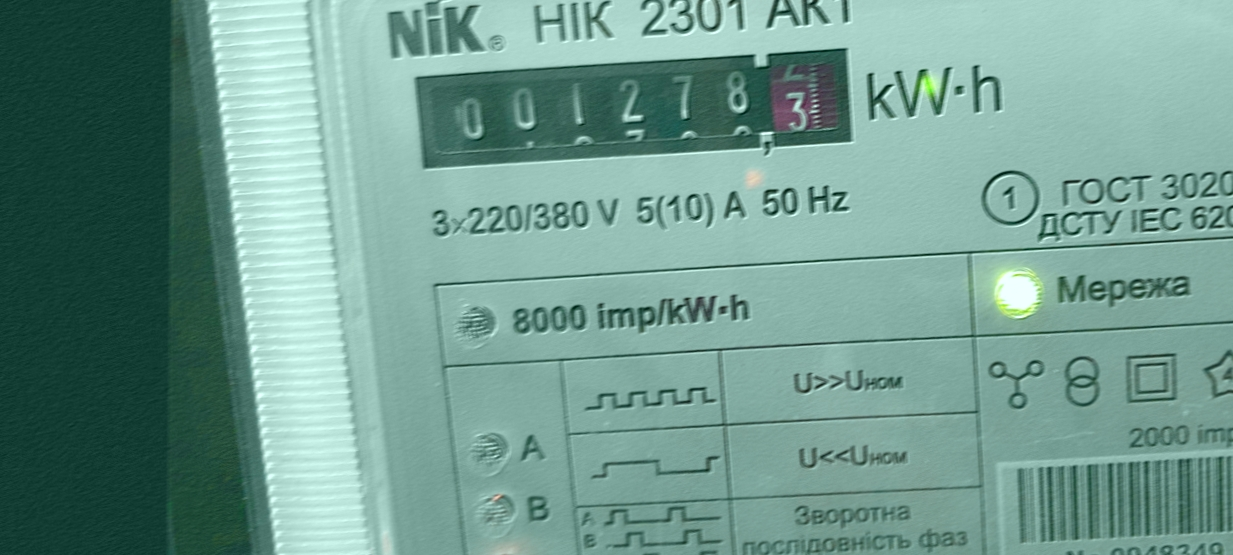0: (459, 93, 486, 141), (510, 85, 537, 132)
1: (568, 78, 587, 125)
2: (618, 77, 644, 124), (781, 62, 805, 81)
3: (783, 89, 810, 133)
7: (670, 73, 693, 120)
8: (725, 69, 750, 114)
screen: (400, 32, 870, 184)
